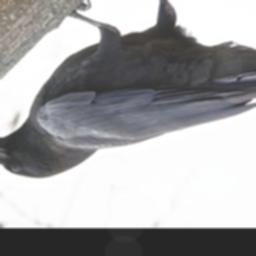Crow: (0, 0, 256, 179)
